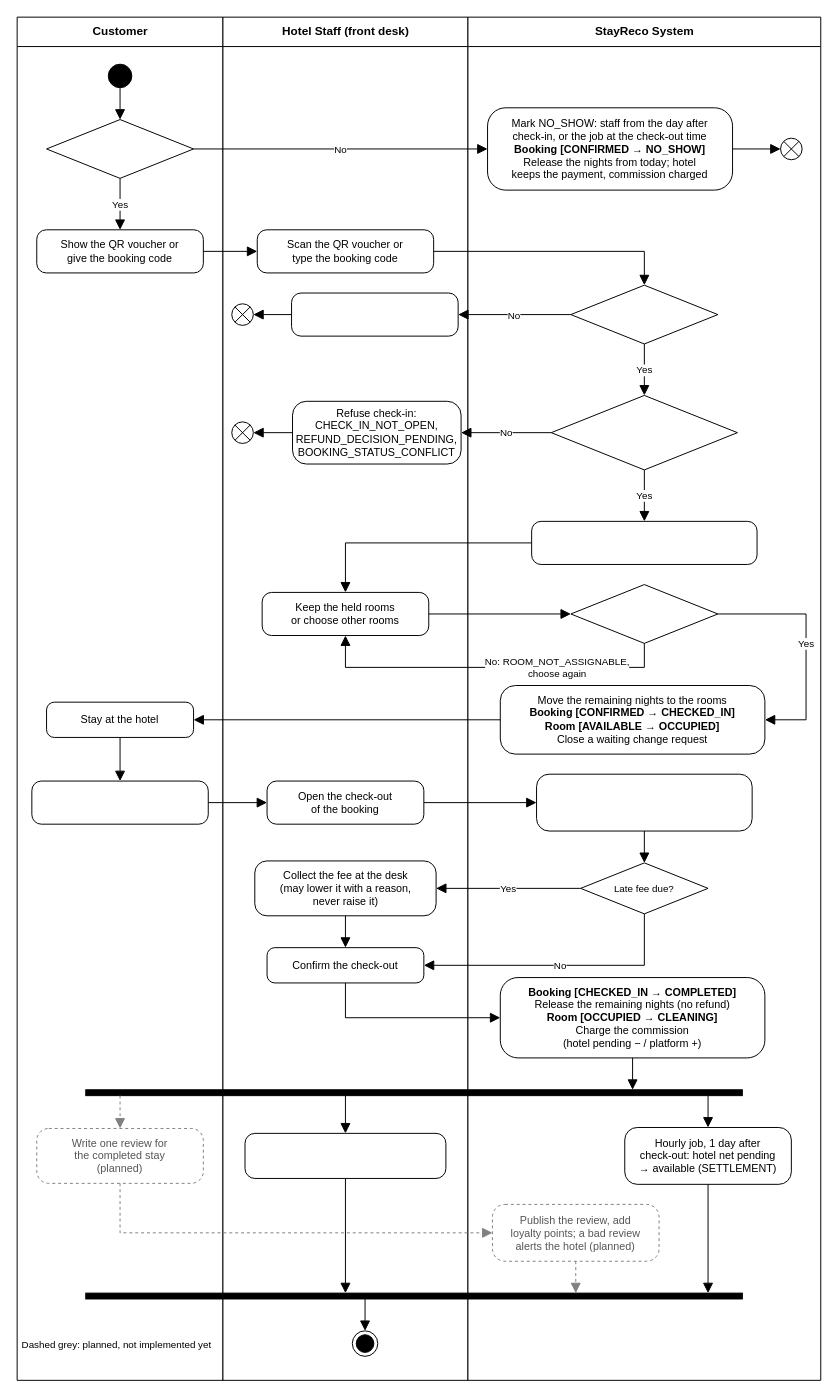
The diagram is 838 pixels wide and 1397 high, and some of its shapes have lost their labels. The shapes that lost their labels are listed below. From the top down, each one's centre as x and y in pixels, then its label:
At point 120,148: "Guest comes during the stay dates?".
At point 374,314: "Show VOUCHER_INVALID / BOOKING_NOT_FOUND".
At point 644,314: "Booking of this hotel found?".
At point 643,432: "CONFIRMED and PAID, no refund waiting, today in the stay dates?".
At point 644,542: "List the held rooms and the other AVAILABLE rooms of the room type".
At point 644,613: "Rooms still free and AVAILABLE?".
At point 119,802: "Come to the desk to leave (early, on time or late)".
At point 644,802: "Quote: nights released if early, minutes late, late fee from the hotel policy".
At point 345,1155: "Clean the room and mark it cleaned [CLEANING → AVAILABLE]".
